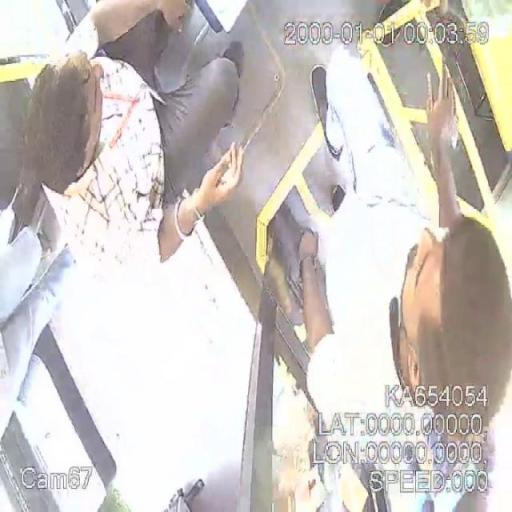persona: (295, 39, 507, 460), (26, 4, 248, 272)
